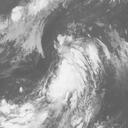cyclone: (50, 35, 106, 103)
